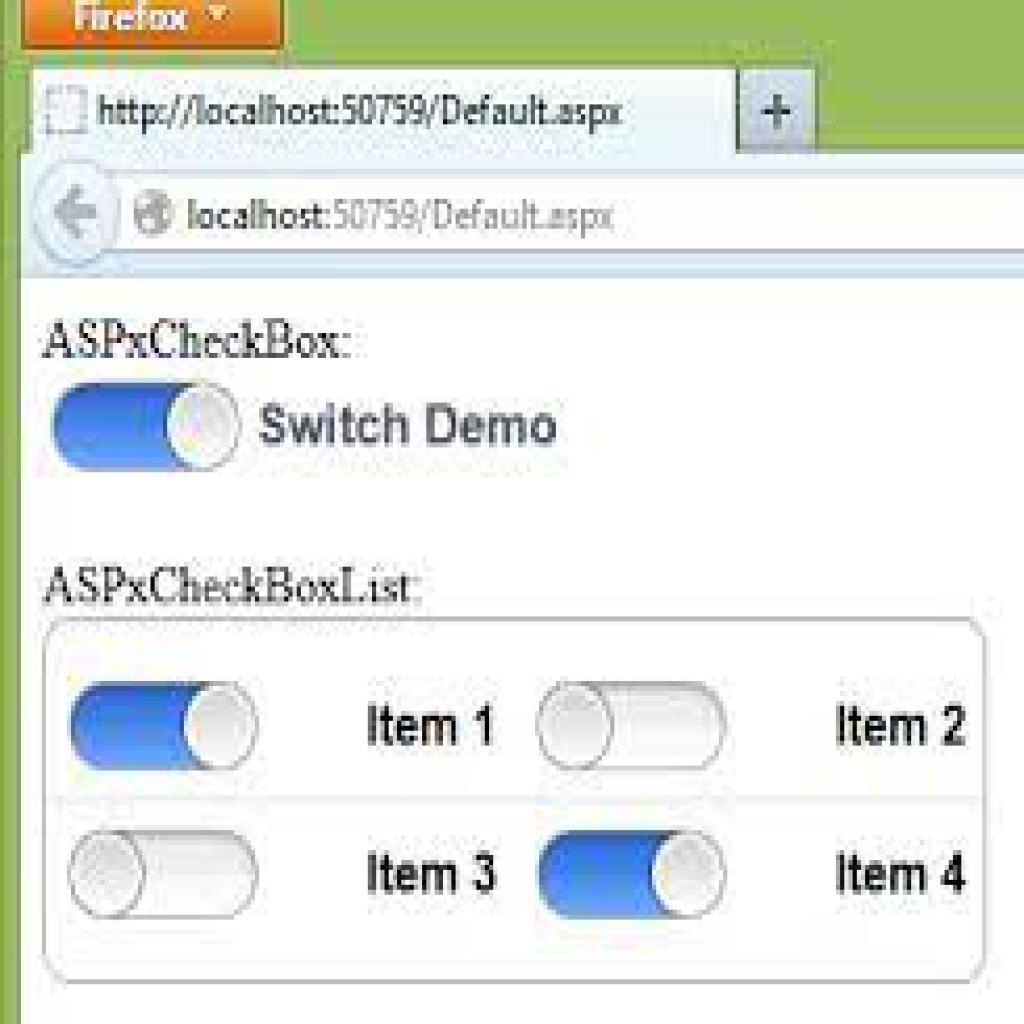label: (255, 400, 568, 461), (831, 838, 973, 908), (367, 842, 499, 905), (362, 698, 497, 757), (831, 701, 971, 751)
switch: (527, 816, 738, 929), (66, 829, 261, 922), (534, 682, 730, 773), (51, 384, 244, 475), (70, 682, 263, 773)
